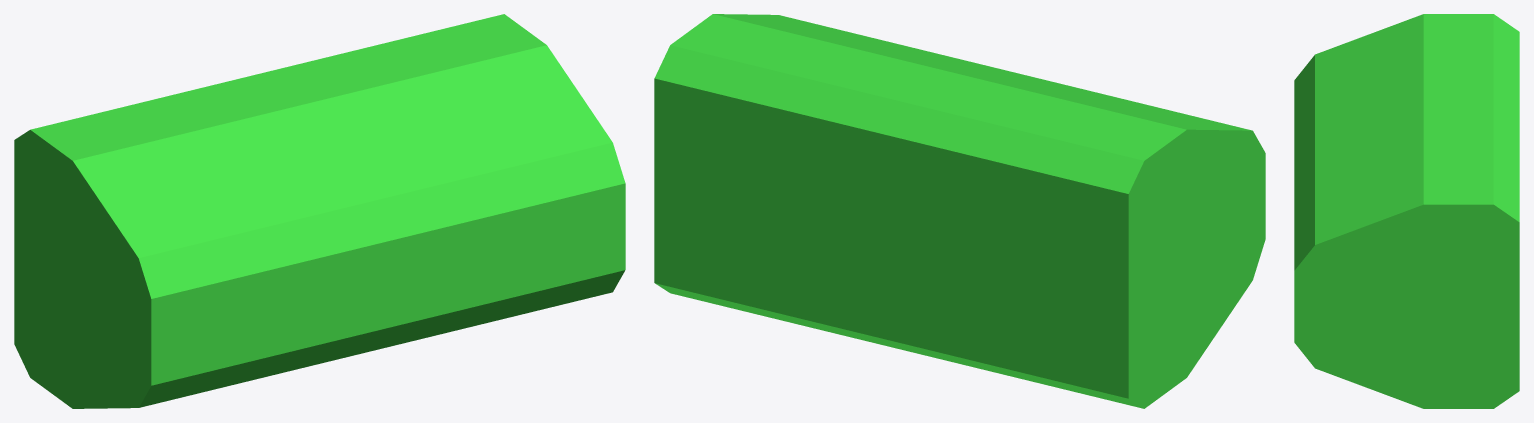
Rendered from hedge.fbx.
3 views of the same model, side by side, from view 1: azimuth 30°, elevation 25°; view 2: azimuth 150°, elevation 25°; view 3: azimuth 270°, elevation 25° (orthographic). The views are drawn at different scales.
Visible parts, largest first — view 1: Cube.001; view 2: Cube.001; view 3: Cube.001.
Boxes of the visible parts, box(x1,y1,x2,y2) form: Cube.001: box(14, 14, 625, 408); Cube.001: box(654, 14, 1265, 408); Cube.001: box(1294, 14, 1519, 408).
Bounding box in the file's own units: 400 × 800 × 400.
